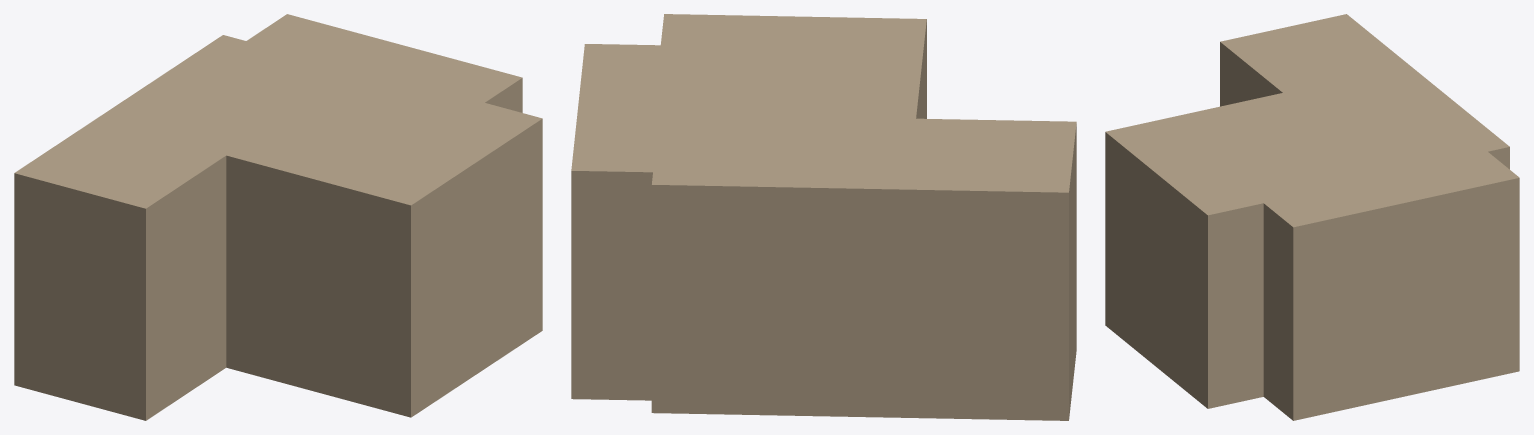
Rendered from bld_107639502.dae.
The picture shows the model from 3 angles, left to right: view 1: azimuth 30°, elevation 25°; view 2: azimuth 150°, elevation 25°; view 3: azimuth 270°, elevation 25°; orthographic projection. The views are drawn at different scales.
Visible parts, largest first — view 1: bld_107639502; view 2: bld_107639502; view 3: bld_107639502.
Boxes of the visible parts, x1,y1,x2,y2 form: bld_107639502: [14, 14, 542, 420]; bld_107639502: [571, 14, 1076, 420]; bld_107639502: [1105, 14, 1519, 420].
Size of the model in its own units: 18.91 by 15.53 by 8.
